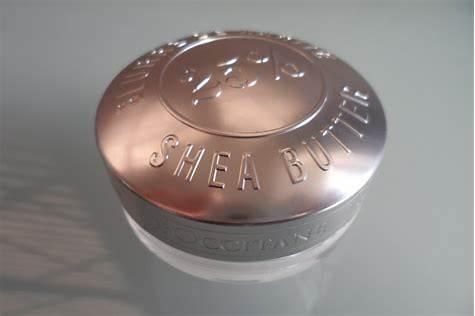metal: (96, 31, 387, 262)
